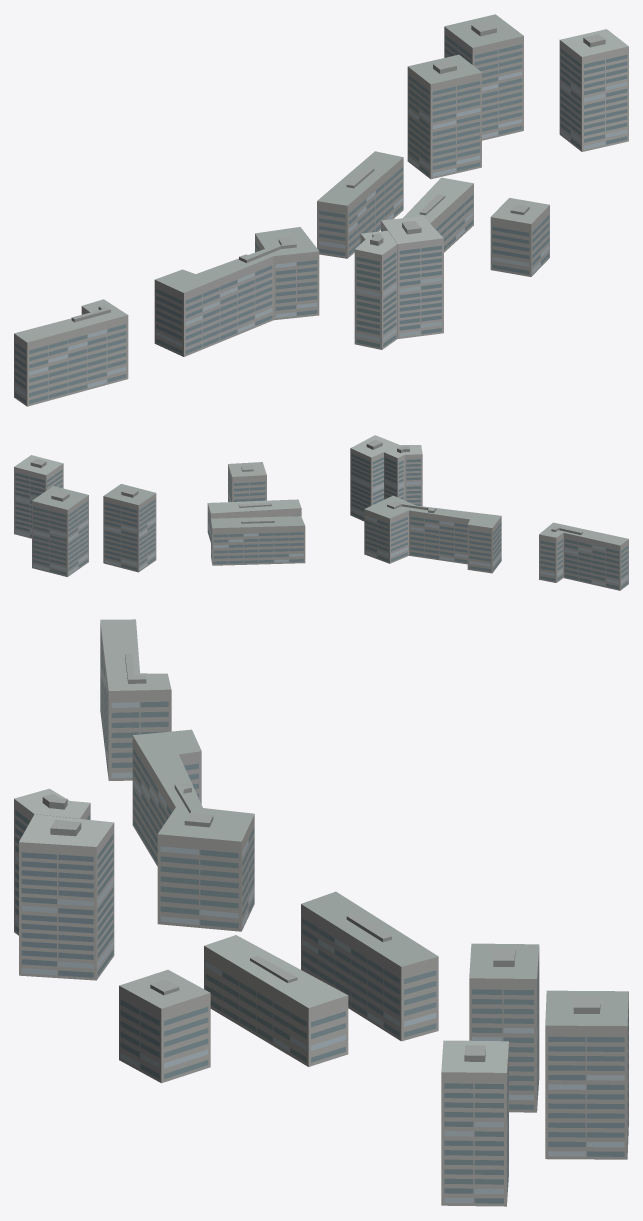
The model's file is apt-a41279928.glb.
The picture shows the model from 3 angles, top to bottom: view 1: azimuth 30°, elevation 25°; view 2: azimuth 150°, elevation 25°; view 3: azimuth 270°, elevation 25°; orthographic projection. The views are drawn at different scales.
Visible parts, largest first — view 1: apt-a41279928; view 2: apt-a41279928; view 3: apt-a41279928.
Boxes of the visible parts, x1,y1,x2,y2 form: apt-a41279928: [14, 14, 628, 406]; apt-a41279928: [14, 435, 628, 590]; apt-a41279928: [14, 619, 628, 1206].
Bounding box in the file's own units: 328 × 43 × 171.
